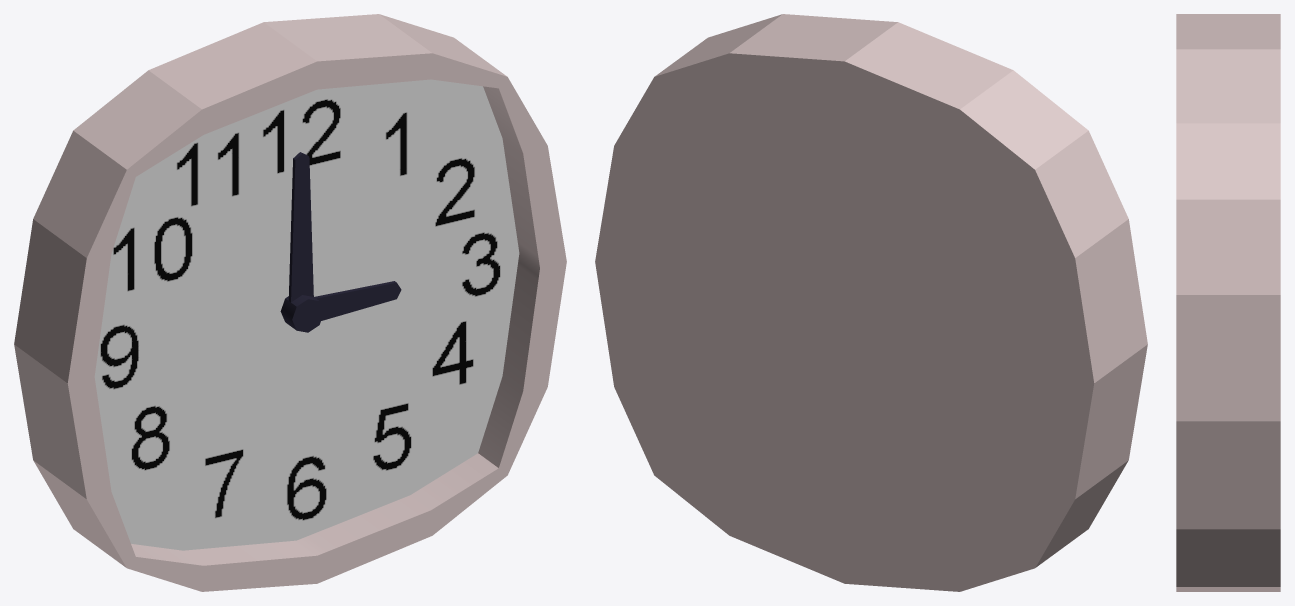
File: Clock.fbx
The picture shows the model from 3 angles, left to right: view 1: azimuth 30°, elevation 25°; view 2: azimuth 150°, elevation 25°; view 3: azimuth 270°, elevation 25°; orthographic projection. The views are drawn at different scales.
Parts seen in each view (by area): view 1: pCube1; view 2: pCube1; view 3: pCube1.
Boxes of the visible parts, x1=… form: pCube1: x1=14, y1=14, x2=566, y2=591; pCube1: x1=595, y1=14, x2=1147, y2=591; pCube1: x1=1176, y1=14, x2=1280, y2=591.
Bounding box in the file's own units: 1.52 × 1.52 × 0.2825.
